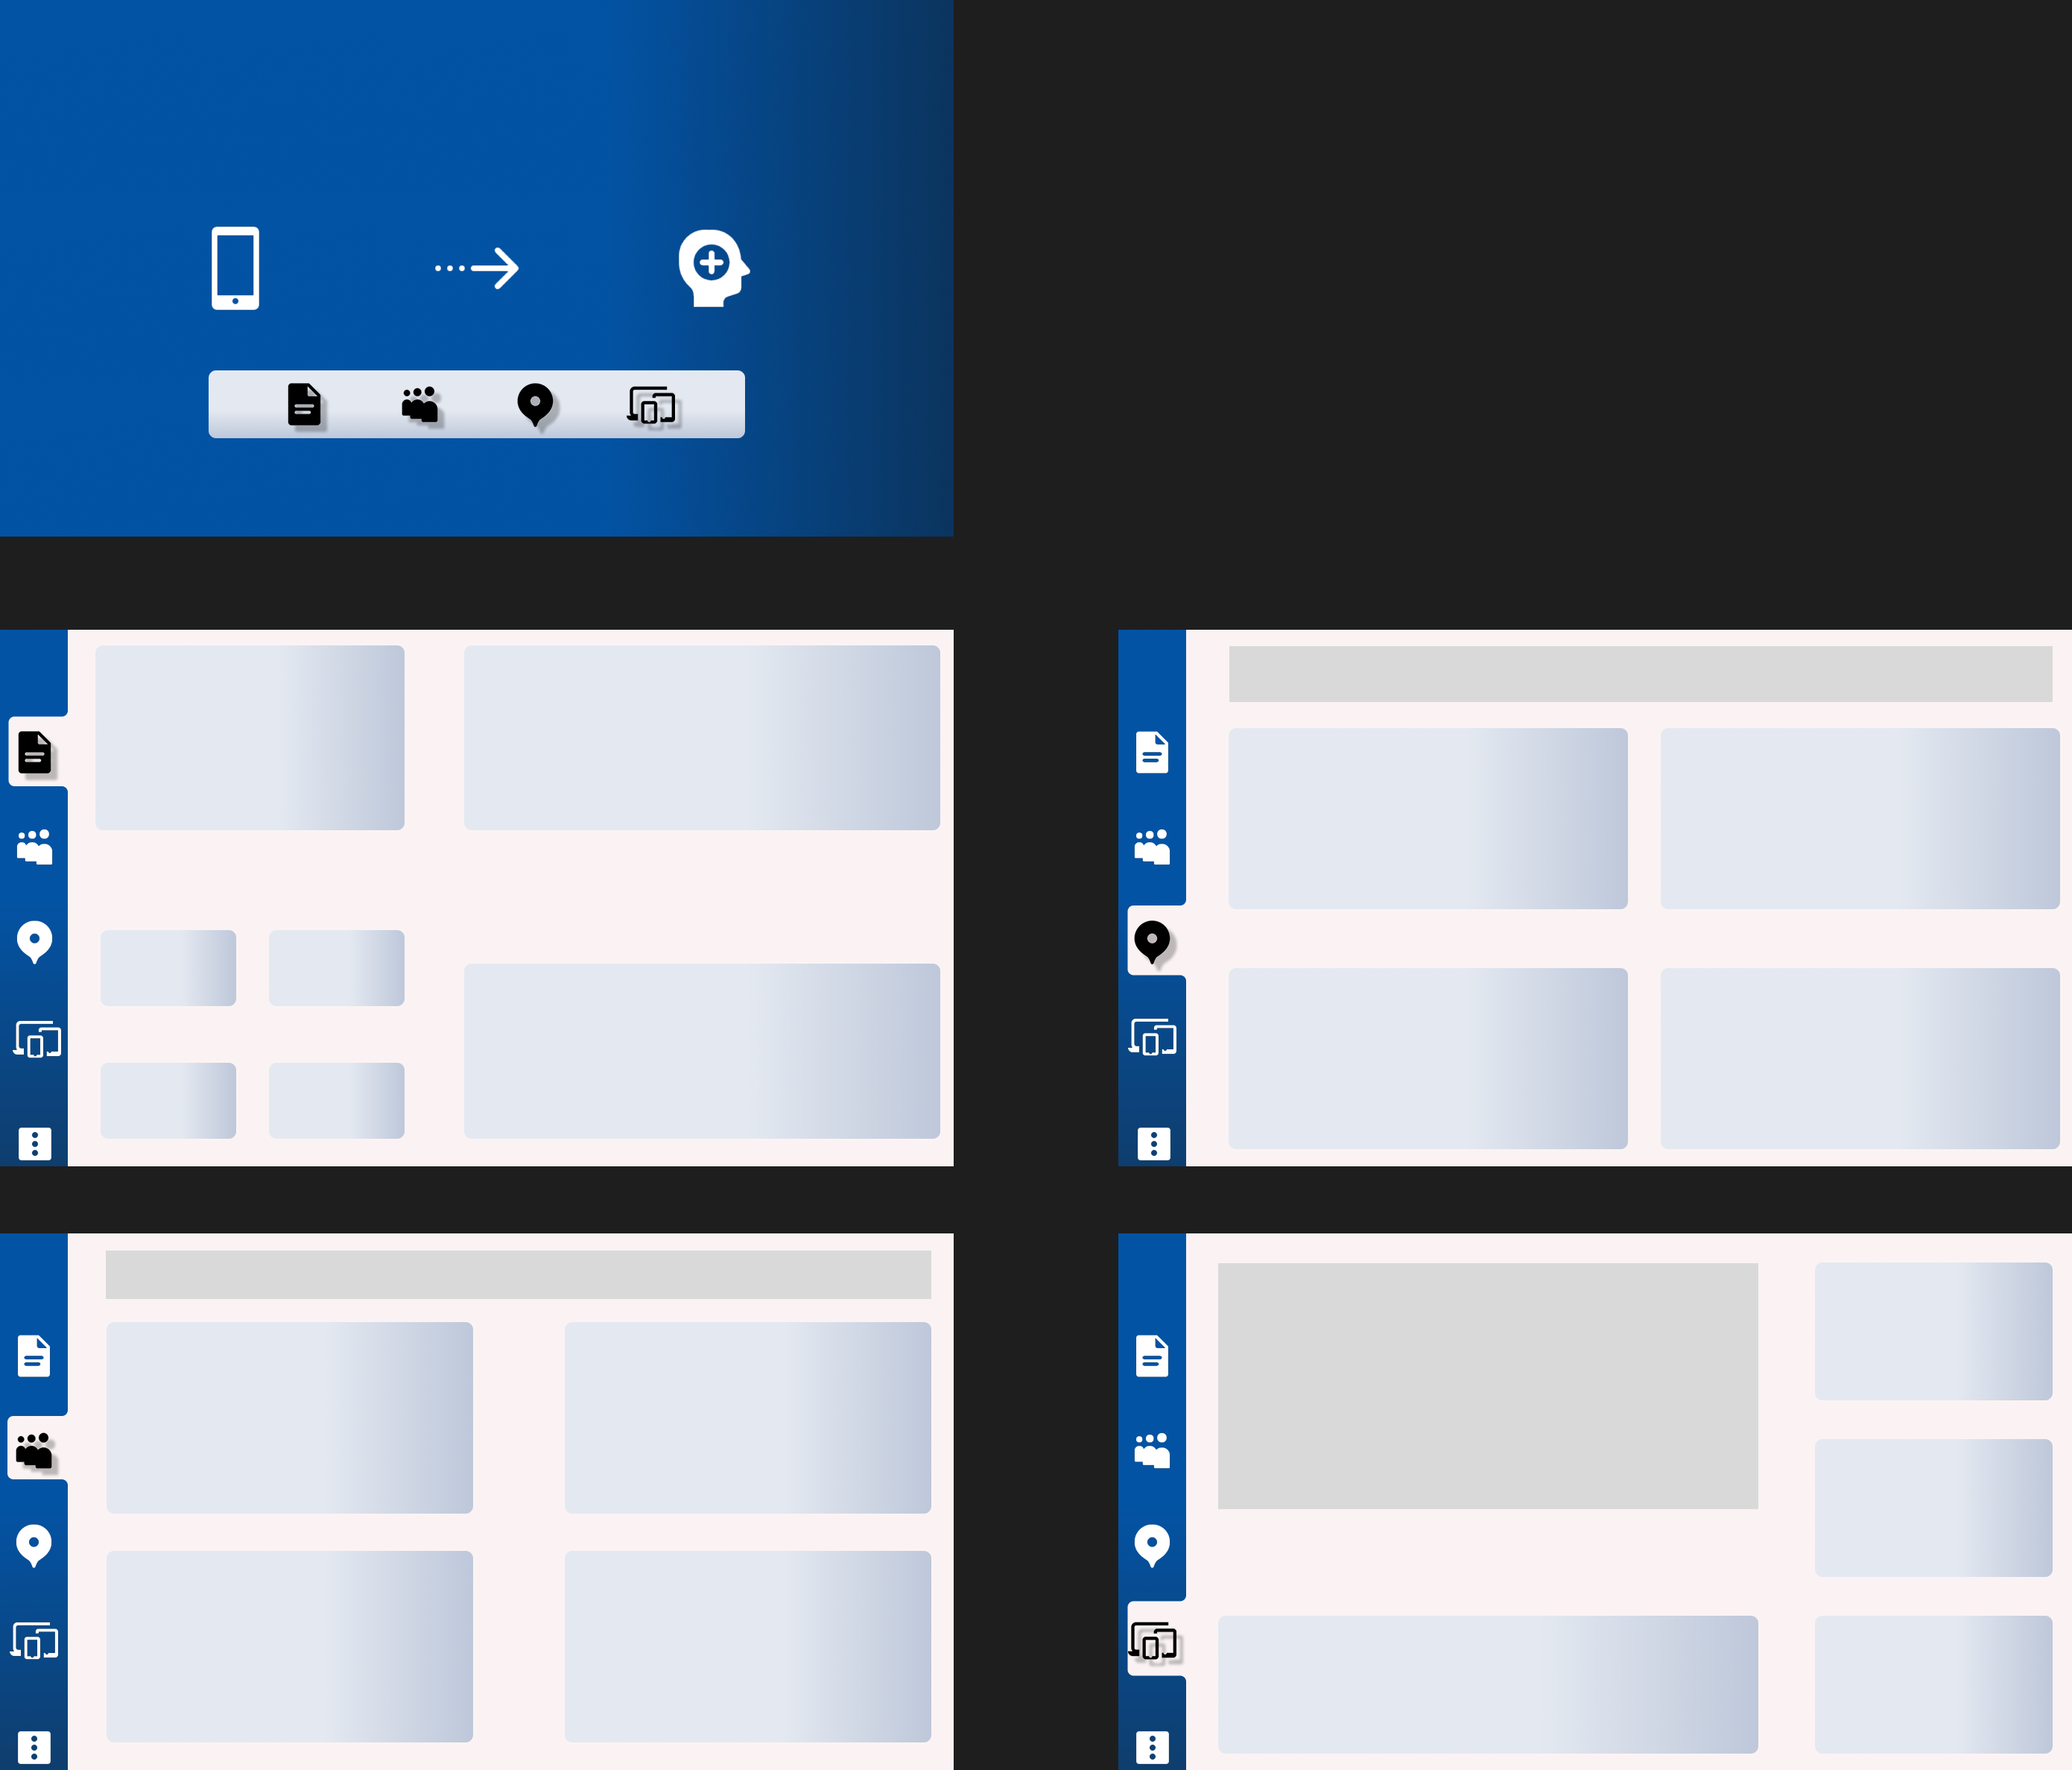

This screenshot's page, from the dashboard's own definition file:
{"tool":"powerbi","page":{"name":"Capa","canvas":[1280,720],"ordinal":0},"visuals":[{"type":"actionButton","box":[358.6,493.2,100.6,92.1],"z":0},{"type":"actionButton","box":[513.1,493.2,100.6,92.1],"z":1},{"type":"actionButton","box":[667.6,493.2,100.6,92.1],"z":2},{"type":"actionButton","box":[823.5,493.2,100.6,92.1],"z":3}]}

Visuals, with their boxes on the page's 1280x720 design canvas (x1, y1, x2, y2). These are canvas units, not pixel positions in the 2072x1770 screenshot, which may show the page scaled, cropped or inside an application window:
actionButton: x1=359, y1=493, x2=459, y2=585
actionButton: x1=513, y1=493, x2=614, y2=585
actionButton: x1=668, y1=493, x2=768, y2=585
actionButton: x1=824, y1=493, x2=924, y2=585
